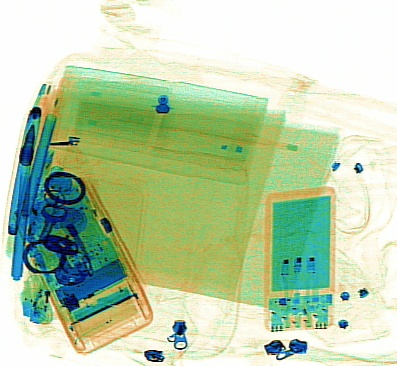lighter: (25, 242, 63, 324)
